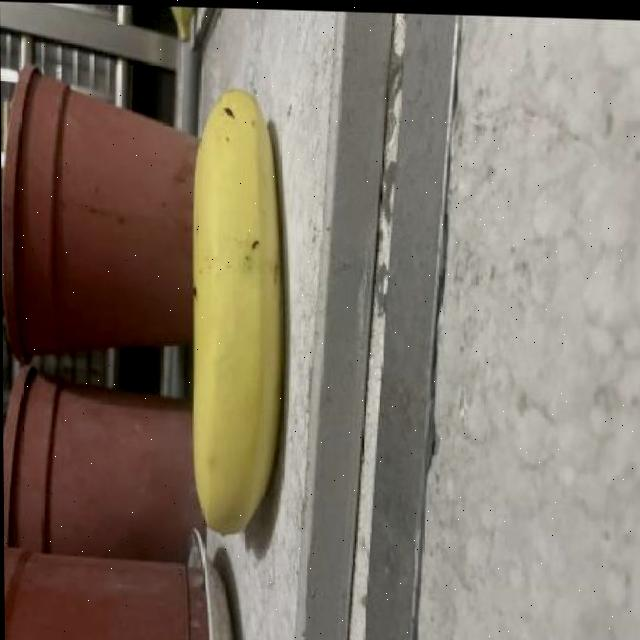banana: (177, 82, 288, 556)
